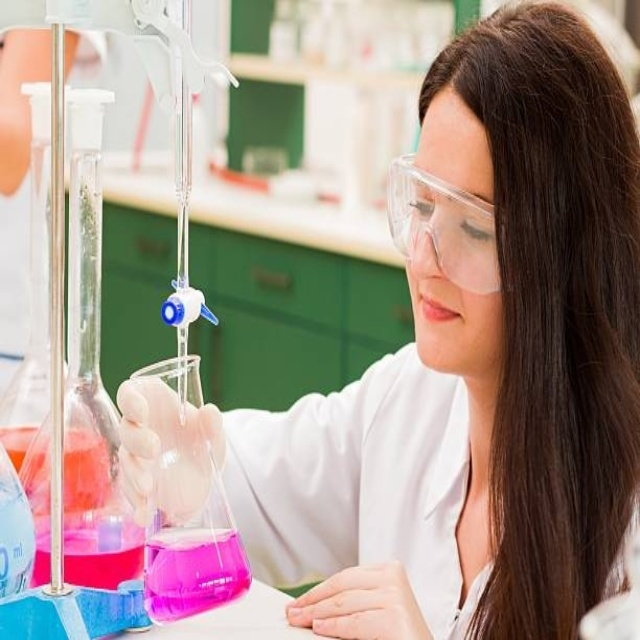Gafas: (386, 155, 505, 293)
Guantes: (116, 371, 230, 524)
Sin_guantes: (278, 546, 433, 634)
Sin_mascara: (409, 283, 473, 362)
